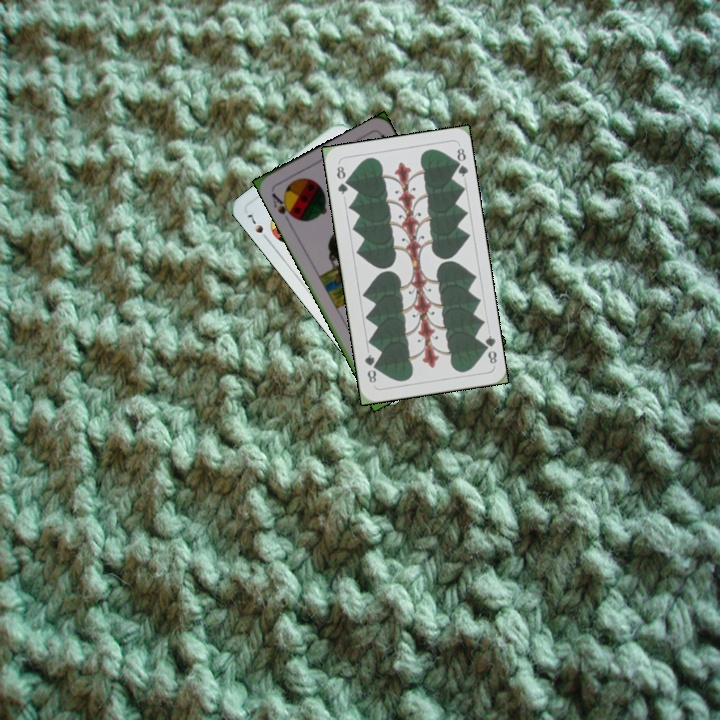G8: (477, 331, 499, 366), (332, 162, 351, 197)
S7: (243, 210, 272, 244)
SA: (267, 188, 298, 225)
